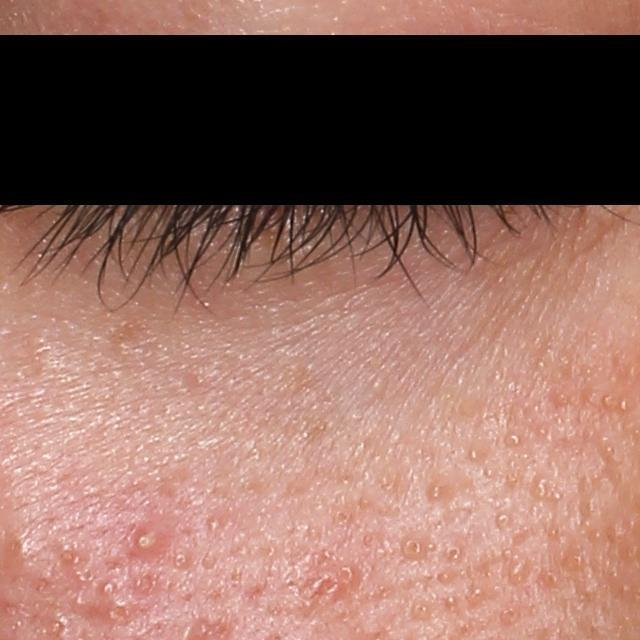comedo: (55, 541, 85, 571), (560, 549, 587, 572), (399, 536, 423, 561), (507, 557, 530, 583), (367, 378, 389, 400), (412, 600, 435, 621), (534, 476, 552, 501), (171, 552, 191, 574), (443, 544, 463, 563), (333, 508, 352, 528), (428, 482, 447, 501), (100, 579, 117, 597), (496, 510, 512, 529), (206, 516, 223, 533), (445, 592, 460, 608), (506, 432, 520, 448), (618, 397, 630, 412)
pustule: (127, 523, 171, 561)
